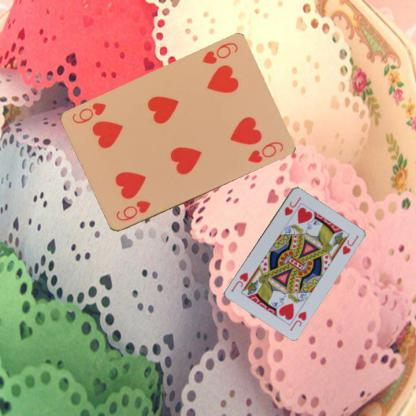6h: (199, 40, 240, 66), (113, 198, 152, 222)
Jh: (282, 194, 303, 217), (287, 309, 308, 332)
